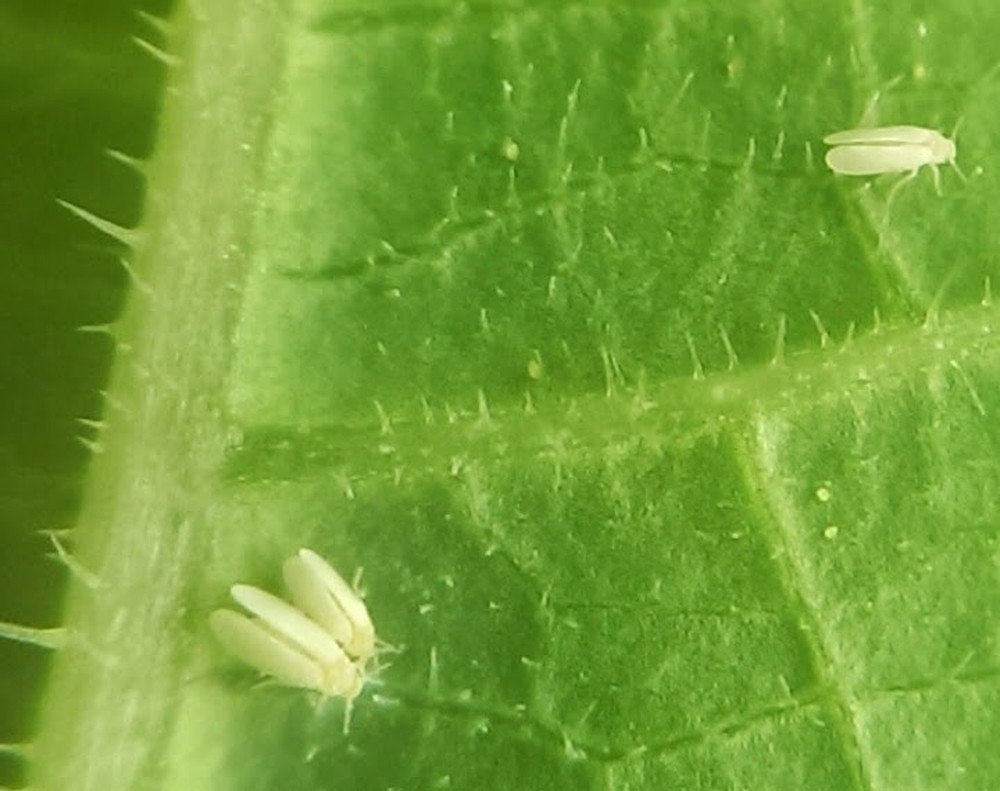Mosca Blanca: (186, 574, 406, 742), (795, 94, 991, 205), (263, 526, 414, 667)
